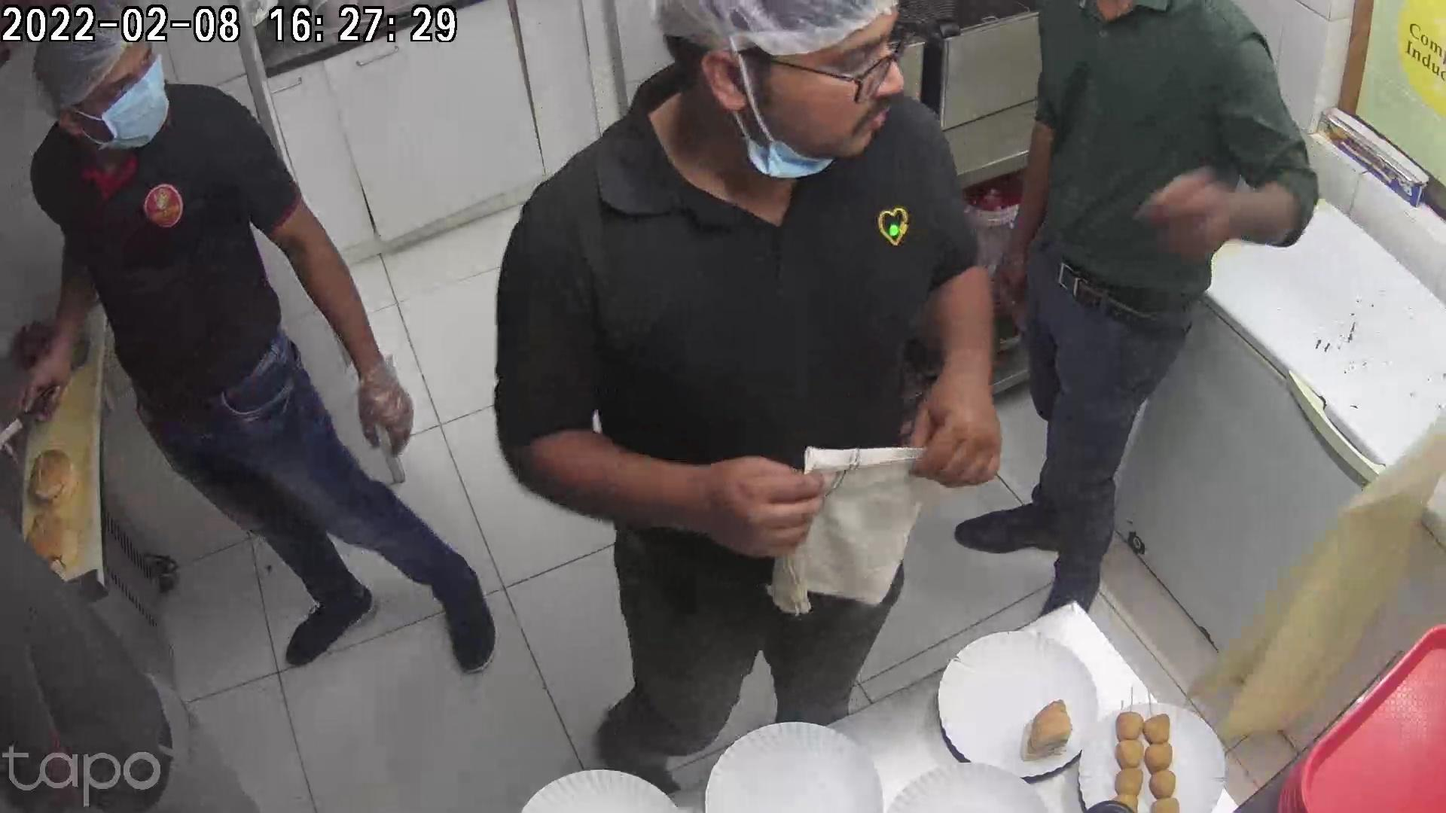gloves: (347, 349, 414, 453)
no_gloves: (664, 467, 827, 560)
